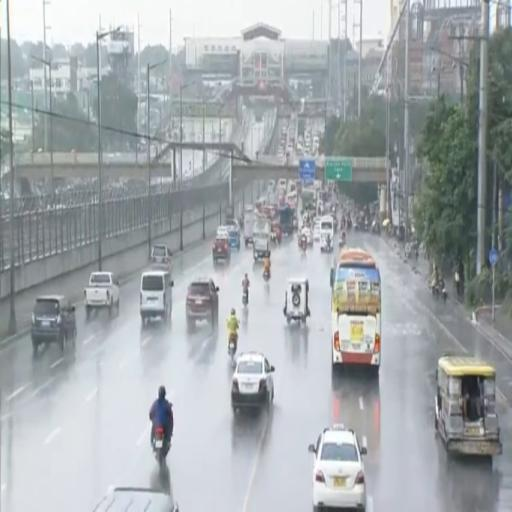bus: (332, 249, 381, 373)
car: (309, 425, 366, 511), (231, 351, 275, 412), (31, 295, 76, 353), (93, 488, 179, 511), (186, 278, 218, 330), (150, 245, 172, 273), (213, 235, 230, 264), (301, 228, 313, 245), (313, 223, 321, 242), (216, 226, 227, 237)
jeepney: (435, 356, 501, 456)
motorcycle: (153, 427, 169, 466), (432, 282, 447, 301), (228, 333, 237, 360), (243, 288, 248, 307), (300, 237, 306, 251), (263, 269, 270, 281), (364, 218, 369, 231)
truck: (84, 272, 119, 318), (254, 218, 270, 261), (279, 205, 293, 235), (244, 207, 254, 247)
